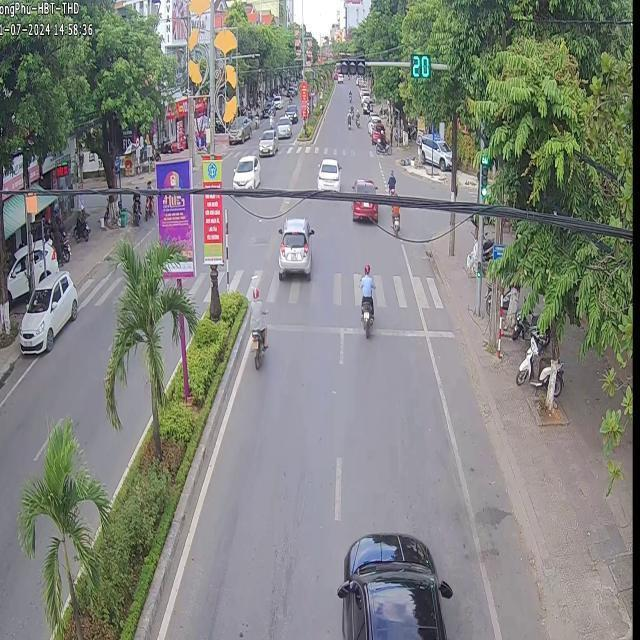car: (336, 531, 450, 638), (18, 269, 77, 351), (277, 216, 312, 278), (230, 154, 259, 187), (316, 156, 339, 189), (350, 198, 377, 221), (350, 176, 376, 192)
green_light: (479, 153, 489, 200), (411, 54, 429, 79)
motobike: (248, 285, 266, 367), (358, 262, 373, 335)
stop_line: (268, 322, 362, 338), (369, 325, 423, 336), (426, 329, 449, 336)
